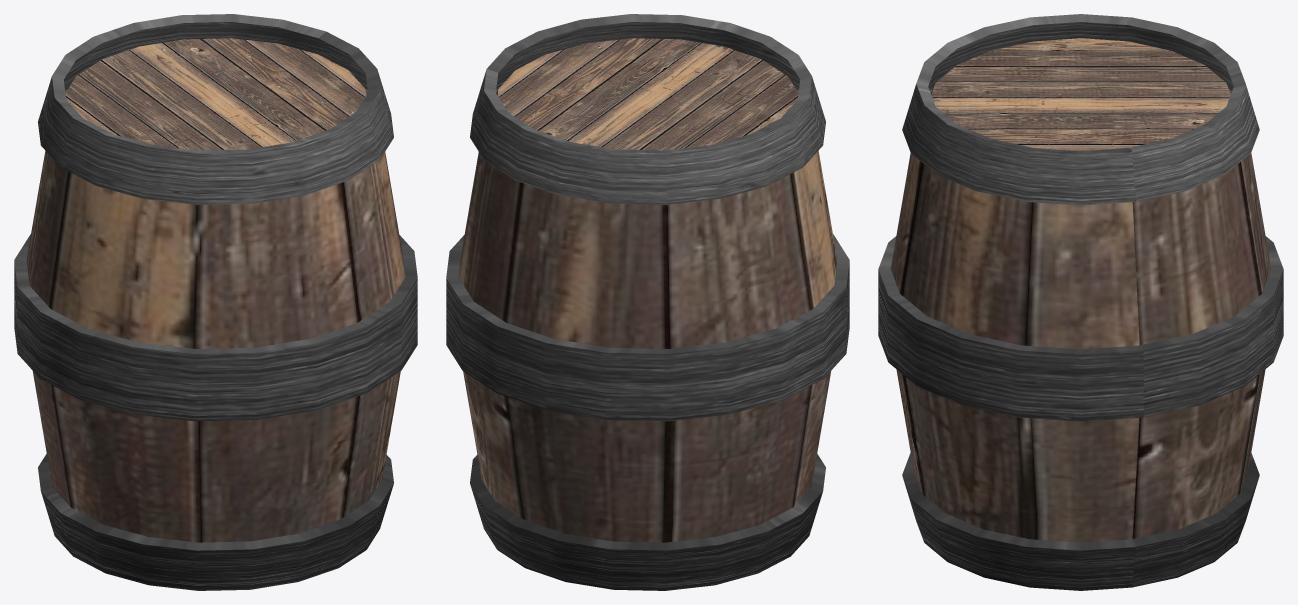
File: Barrel-1.fbx
The picture shows the model from 3 angles, left to right: view 1: azimuth 30°, elevation 25°; view 2: azimuth 150°, elevation 25°; view 3: azimuth 270°, elevation 25°; orthographic projection.
Parts seen in each view (by area): view 1: pCylinder1, pCylinder2; view 2: pCylinder1, pCylinder2; view 3: pCylinder1, pCylinder2.
Boxes of the visible parts, <box> form: pCylinder1: <box>26,38,405,542</box>; pCylinder2: <box>14,14,417,590</box>; pCylinder1: <box>458,38,837,542</box>; pCylinder2: <box>446,14,849,590</box>; pCylinder1: <box>890,38,1271,542</box>; pCylinder2: <box>878,14,1283,590</box>.
Bounding box in the file's own units: 5.54 × 6.6 × 5.54.
Materials: 2 (2 with a texture image).
